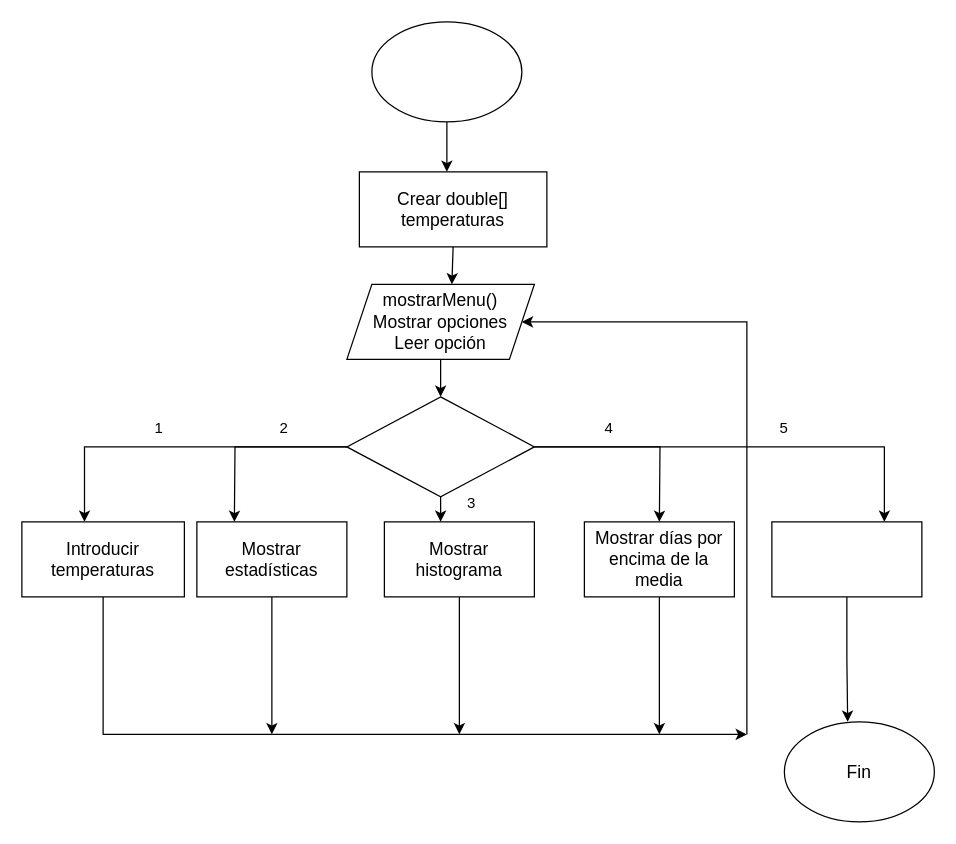
This 956x844 diagram has some shape labels left out. Here are the shapes that lost their labels. From the top down, the centre of each, then its label:
the point at 446,71: Inicio
the point at 440,446: ¿Opción?
the point at 846,559: Mostrar "Saliendo del programa..."
